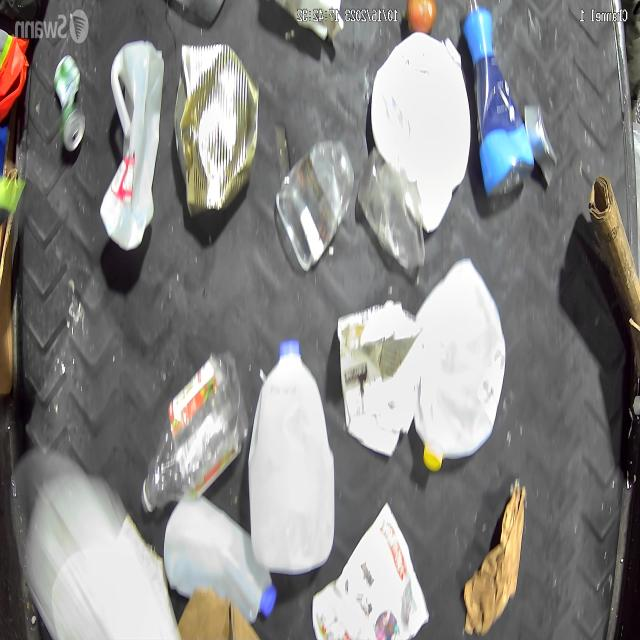can: (173, 42, 262, 222), (51, 55, 85, 159)
milk_jug: (407, 252, 504, 478), (246, 334, 335, 574), (370, 34, 470, 231), (98, 39, 164, 254), (163, 491, 274, 608)
plastic_bottle: (139, 351, 242, 518), (468, 2, 532, 201)
